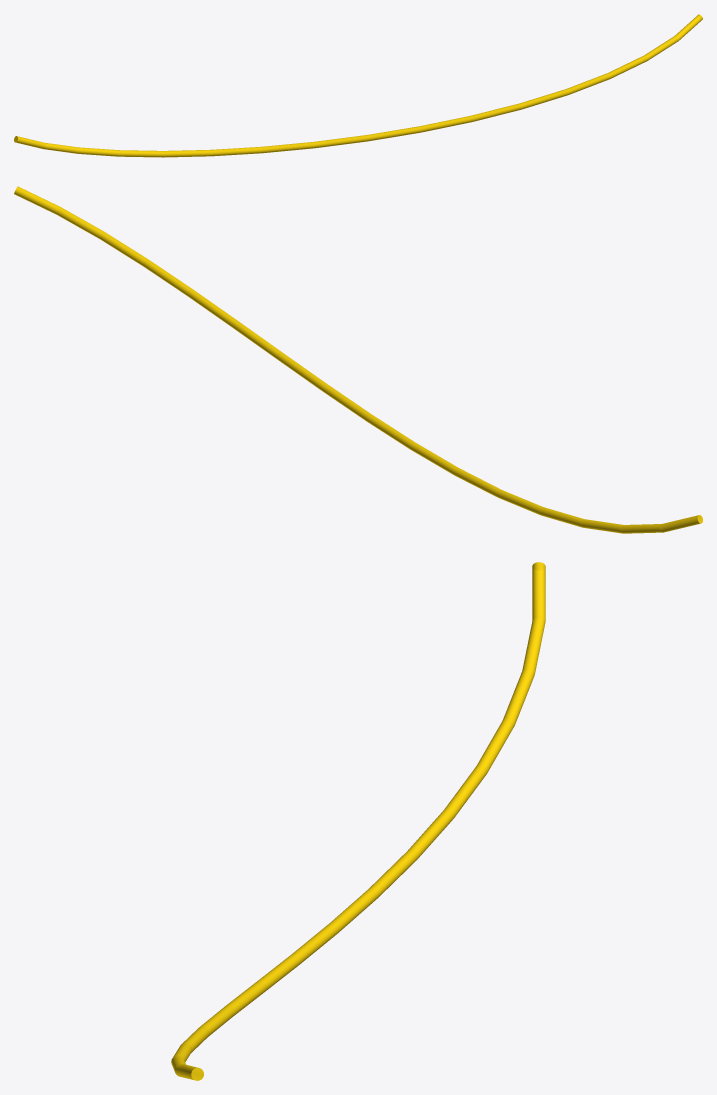
The model's file is Event_421115418_track_123.fbx.
3 renders of one model, top to bottom at view 1: azimuth 30°, elevation 25°; view 2: azimuth 150°, elevation 25°; view 3: azimuth 270°, elevation 25°, orthographic. The views are drawn at different scales.
Visible parts, largest first — view 1: Model; view 2: Model; view 3: Model.
Part boxes in pixels (x1,y1,x2,y2): Model: [14, 14, 702, 157]; Model: [14, 186, 702, 533]; Model: [171, 562, 545, 1080].
Size of the model in its own units: 4.21 by 0.563 by 1.14.
